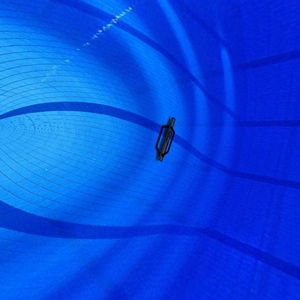submarine: (149, 114, 181, 166)
